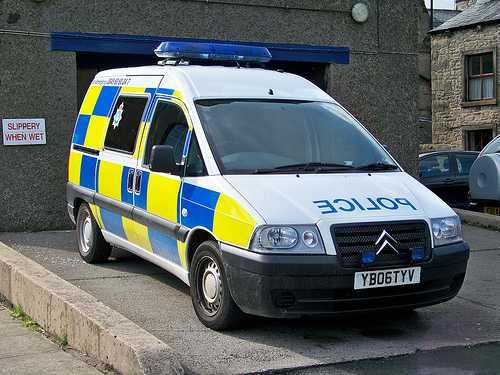Police Car: (46, 38, 475, 339)
